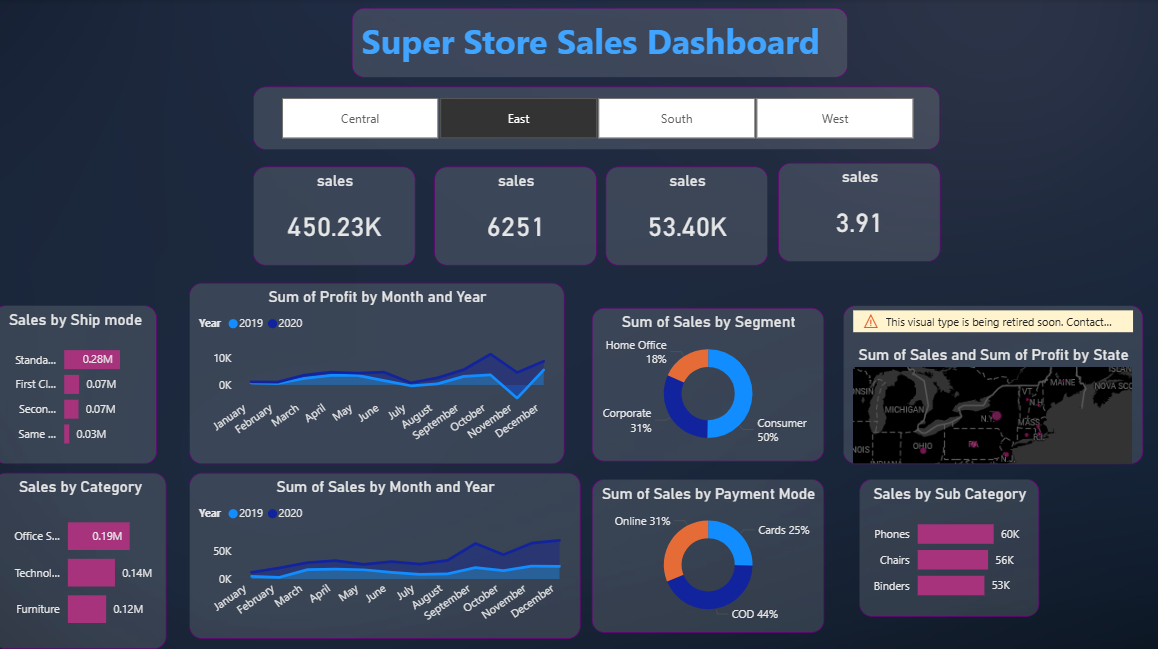

What the dashboard file says about the page in this screenshot:
{"tool":"powerbi","page":{"name":"Page 1","canvas":[1280,720],"ordinal":0},"visuals":[{"type":"clusteredBarChart","title":"Sales by Category","fields":{"Category":["SuperStore_Sales_Dataset.Category"],"Y":["Sum(SuperStore_Sales_Dataset.Sales)"]},"box":[0,520.1,190.7,193.5],"z":0},{"type":"clusteredBarChart","title":"Sales by Sub Category","fields":{"Category":["SuperStore_Sales_Dataset.Sub-Category"],"Y":["Sum(SuperStore_Sales_Dataset.Sales)"]},"box":[950.9,526.9,197.6,150.9],"z":1000},{"type":"clusteredBarChart","title":"Sales by Ship mode","fields":{"Category":["SuperStore_Sales_Dataset.Ship Mode"],"Y":["Sum(SuperStore_Sales_Dataset.Sales)"]},"box":[0,336.2,179.8,174.3],"z":2000},{"type":"stackedAreaChart","fields":{"Category":["SuperStore_Sales_Dataset.Order Date.Variation.Date Hierarchy.Month","SuperStore_Sales_Dataset.Order Date.Variation.Date Hierarchy.Day"],"Y":["Sum(SuperStore_Sales_Dataset.Sales)"],"Series":["SuperStore_Sales_Dataset.Order Date.Variation.Date Hierarchy.Year"]},"box":[215.4,520.1,429.5,182.5],"z":3000},{"type":"stackedAreaChart","fields":{"Category":["SuperStore_Sales_Dataset.Order Date.Variation.Date Hierarchy.Month","SuperStore_Sales_Dataset.Order Date.Variation.Date Hierarchy.Day"],"Series":["SuperStore_Sales_Dataset.Order Date.Variation.Date Hierarchy.Year"],"Y":["Sum(SuperStore_Sales_Dataset.Profit)"]},"box":[215.4,311.5,411.7,199],"z":4000},{"type":"map","fields":{"Category":["SuperStore_Sales_Dataset.State"],"Size":["Sum(SuperStore_Sales_Dataset.Sales)"]},"box":[933.1,336.2,329.3,171.5],"z":5000},{"type":"donutChart","fields":{"Category":["SuperStore_Sales_Dataset.Segment"],"Y":["Sum(SuperStore_Sales_Dataset.Sales)"]},"box":[657.3,338.9,255.2,168.8],"z":6000},{"type":"slicer","fields":{"Values":["SuperStore_Sales_Dataset.Region"]},"box":[285.4,96.1,754.7,70],"z":7000},{"type":"textbox","box":[393.8,9.6,544.8,76.8],"z":8000},{"type":"card","title":"sales","fields":{"Values":["Sum(SuperStore_Sales_Dataset.Sales)"]},"box":[285.4,183.9,178.4,108.4],"z":9000},{"type":"card","title":"sales","fields":{"Values":["Avg(SuperStore_Sales_Dataset.AvgDelievery)"]},"box":[861.8,179.8,178.4,108.4],"z":9001},{"type":"card","title":"sales","fields":{"Values":["Sum(SuperStore_Sales_Dataset.Profit)"]},"box":[672.4,183.9,178.4,108.4],"z":9002},{"type":"card","title":"sales","fields":{"Values":["Sum(SuperStore_Sales_Dataset.Quantity)"]},"box":[484.4,183.9,178.4,108.4],"z":9003},{"type":"donutChart","fields":{"Y":["Sum(SuperStore_Sales_Dataset.Sales)"],"Series":["SuperStore_Sales_Dataset.Payment Mode"]},"box":[657.3,526.9,255.2,168.8],"z":9004}]}

Visuals, with their boxes in screenshot pixels (x1, y1, x2, y2), scaled from the page's 1280x720 canvas onto the 1158x649 screenshot:
"Sales by Category" clusteredBarChart: pyautogui.locateOnScreen(0, 469, 173, 643)
"Sales by Sub Category" clusteredBarChart: pyautogui.locateOnScreen(860, 475, 1039, 611)
"Sales by Ship mode" clusteredBarChart: pyautogui.locateOnScreen(0, 303, 163, 460)
stackedAreaChart - SuperStore_Sales_Dataset.Order Date.Variation.Date Hierarchy.Month x SuperStore_Sales_Dataset.Order Date.Variation.Date Hierarchy.Day: pyautogui.locateOnScreen(195, 469, 583, 633)
stackedAreaChart - SuperStore_Sales_Dataset.Order Date.Variation.Date Hierarchy.Month x SuperStore_Sales_Dataset.Order Date.Variation.Date Hierarchy.Day: pyautogui.locateOnScreen(195, 281, 567, 460)
map - SuperStore_Sales_Dataset.State x Sum(SuperStore_Sales_Dataset.Sales): pyautogui.locateOnScreen(844, 303, 1142, 458)
donutChart - SuperStore_Sales_Dataset.Segment x Sum(SuperStore_Sales_Dataset.Sales): pyautogui.locateOnScreen(595, 305, 826, 458)
slicer - SuperStore_Sales_Dataset.Region: pyautogui.locateOnScreen(258, 87, 941, 150)
textbox: pyautogui.locateOnScreen(356, 9, 849, 78)
"sales" card: pyautogui.locateOnScreen(258, 166, 420, 263)
"sales" card: pyautogui.locateOnScreen(780, 162, 941, 260)
"sales" card: pyautogui.locateOnScreen(608, 166, 770, 263)
"sales" card: pyautogui.locateOnScreen(438, 166, 600, 263)
donutChart - Sum(SuperStore_Sales_Dataset.Sales) x SuperStore_Sales_Dataset.Payment Mode: pyautogui.locateOnScreen(595, 475, 826, 627)
